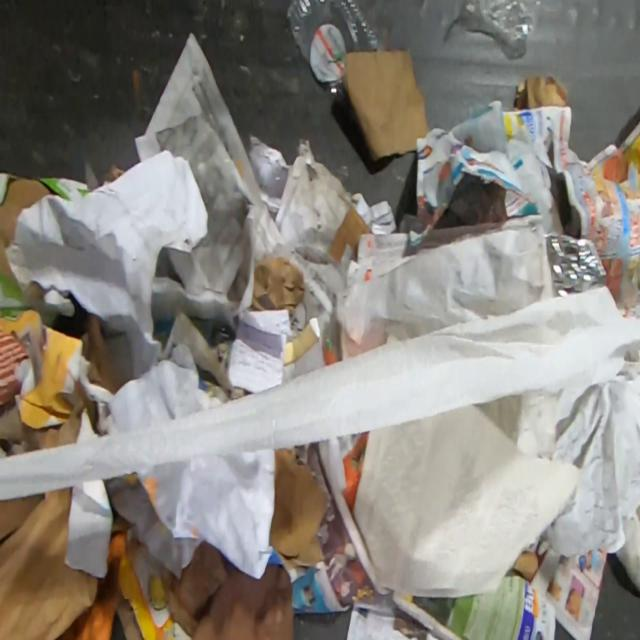cardboard: (0, 485, 100, 639), (0, 171, 90, 330), (164, 538, 294, 640), (343, 48, 432, 163), (270, 446, 326, 573), (0, 380, 97, 451), (328, 202, 375, 265), (513, 71, 568, 110), (512, 552, 539, 581)
rigid_plastic: (283, 0, 381, 106)
soft_plastic: (439, 0, 544, 59), (544, 233, 608, 298)
